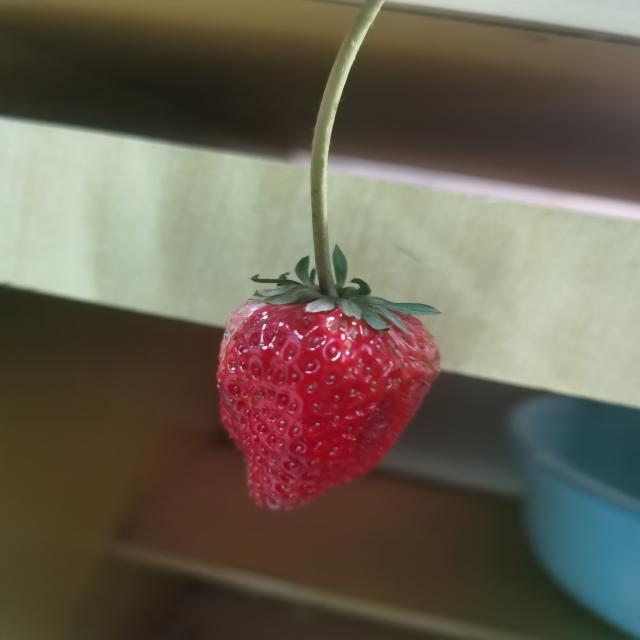stem: (311, 168, 339, 300)
strawberry: (216, 285, 440, 511)
